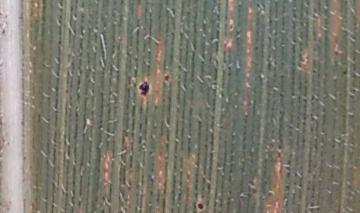tarspot: (136, 78, 152, 98), (163, 72, 172, 83), (197, 202, 204, 211), (343, 70, 348, 75)
